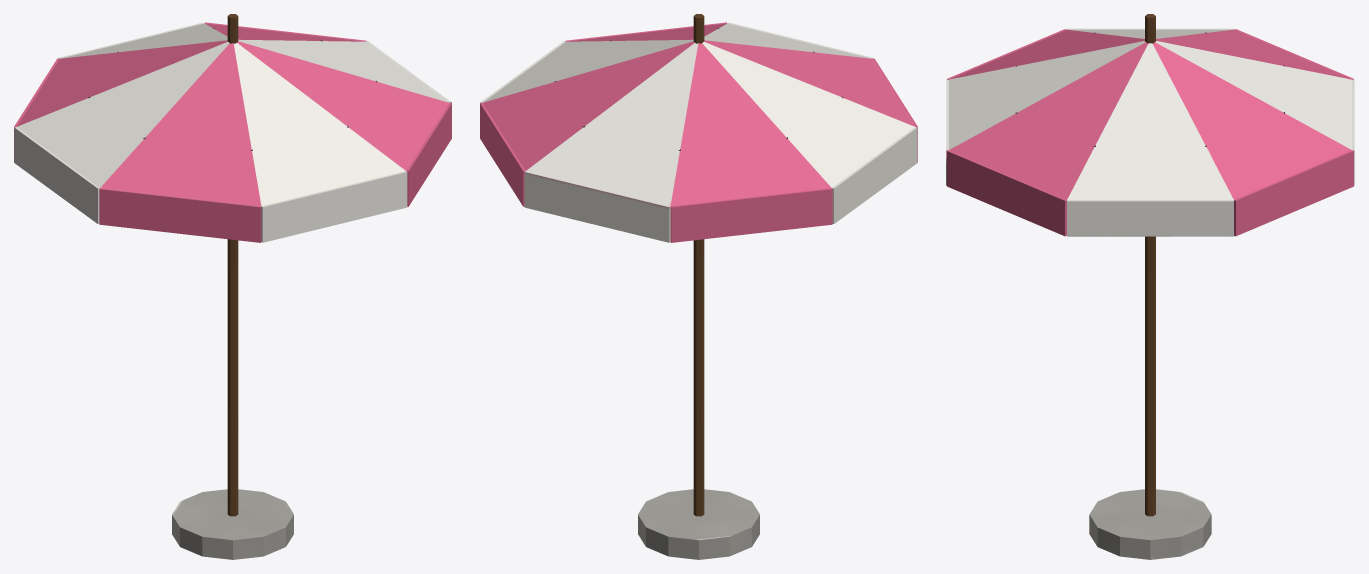
Rendered from slunecnik_62a7fa44.glb.
The picture shows the model from 3 angles, left to right: view 1: azimuth 30°, elevation 25°; view 2: azimuth 150°, elevation 25°; view 3: azimuth 270°, elevation 25°; orthographic projection.
Parts seen in each view (by area): view 1: dum; view 2: dum; view 3: dum.
Part boxes in pixels (x1=…): dum: x1=14, y1=14, x2=451, y2=559; dum: x1=480, y1=14, x2=917, y2=559; dum: x1=946, y1=14, x2=1354, y2=559.
Bounding box in the file's own units: 1.87 × 2.61 × 1.87.
1 material, 1 textured.
